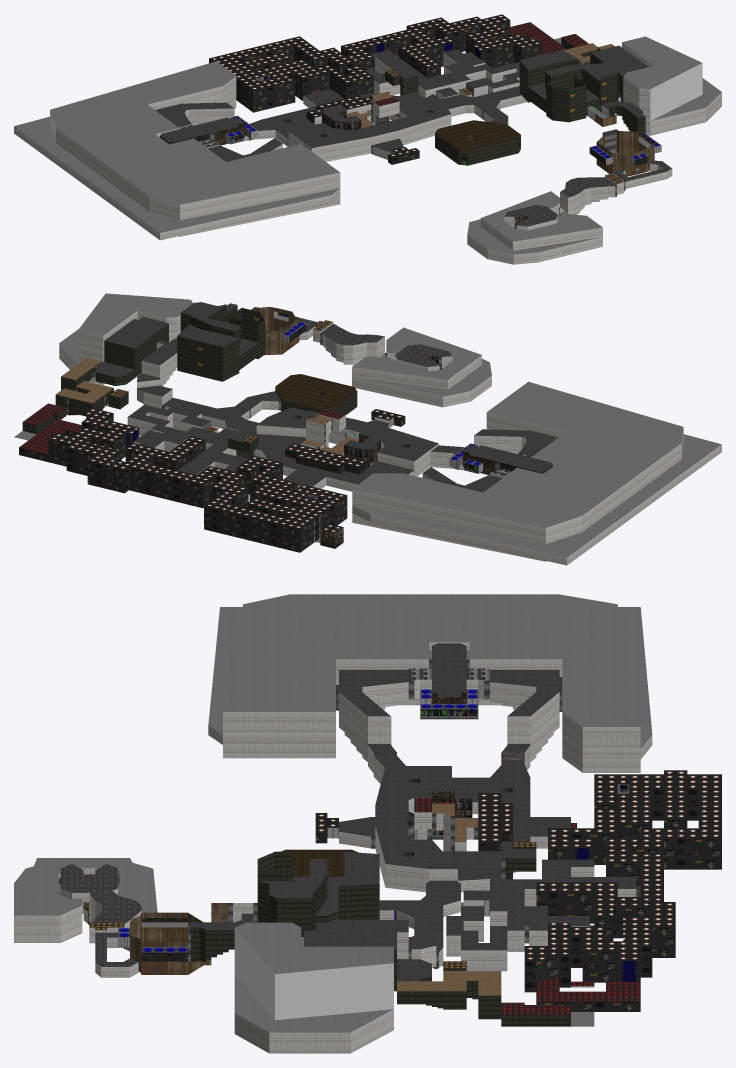
The model's file is Mapa 2 sin puertas vF.fbx.
3 views of the same model, one above another, from view 1: azimuth 30°, elevation 25°; view 2: azimuth 150°, elevation 25°; view 3: azimuth 270°, elevation 25° (orthographic). The views are drawn at different scales.
Parts seen in each view (by area): view 1: E1M2; view 2: E1M2; view 3: E1M2.
Boxes of the visible parts, x1,y1,x2,y2 form: E1M2: (14,14,721,264); E1M2: (14,293,721,565); E1M2: (14,594,721,1053).
Size of the model in its own units: 592 by 82.89 by 435.
80 materials, 79 textured.
